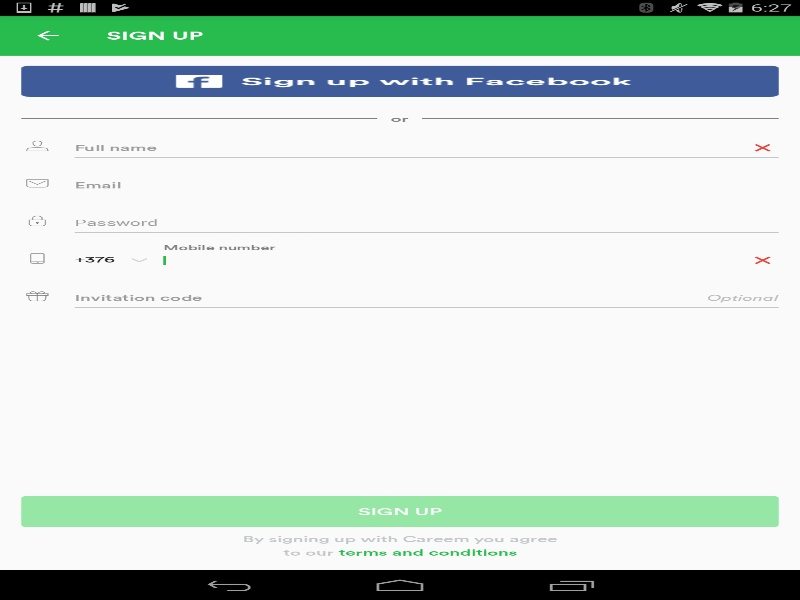Button: (10, 15, 85, 55)
Input: (74, 137, 778, 158), (74, 174, 778, 195), (74, 212, 778, 233), (74, 287, 778, 308), (163, 249, 778, 270), (74, 247, 115, 270)
